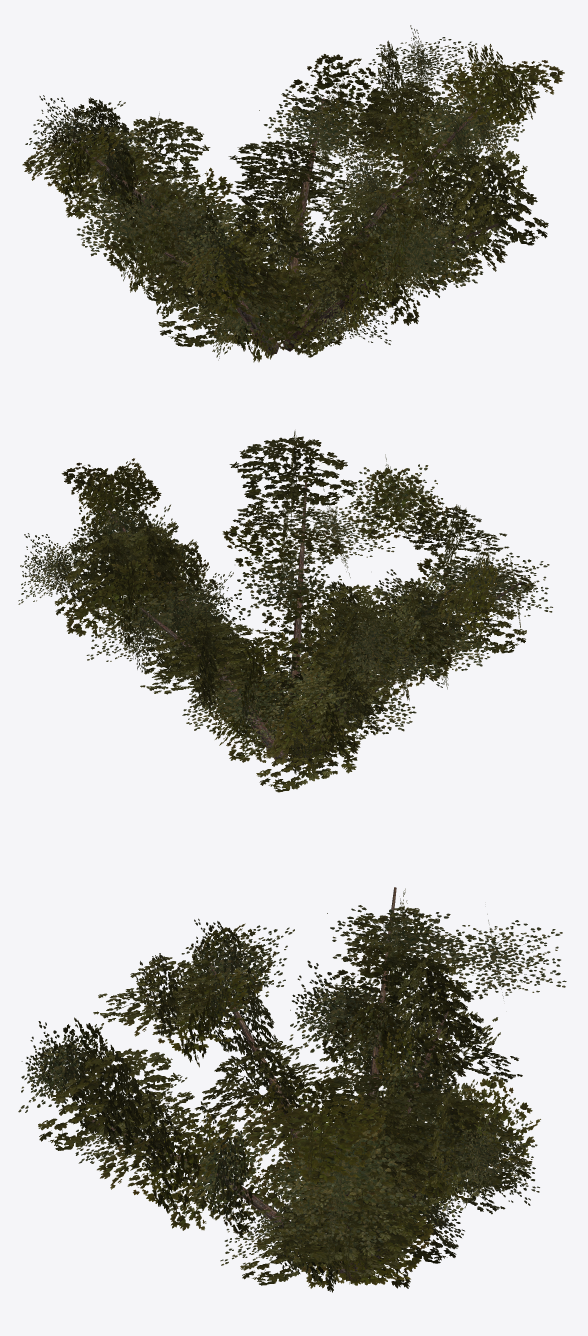
The model's file is bush_3d_02_lod1.glb.
The picture shows the model from 3 angles, top to bottom: view 1: azimuth 30°, elevation 25°; view 2: azimuth 150°, elevation 25°; view 3: azimuth 270°, elevation 25°; orthographic projection. The views are drawn at different scales.
Parts seen in each view (by area): view 1: foliage_cards, wood_geometry; view 2: foliage_cards, wood_geometry; view 3: foliage_cards, wood_geometry.
Boxes of the visible parts, x1,y1,x2,y2 form: foliage_cards: [22, 25, 564, 362]; wood_geometry: [72, 96, 498, 354]; foliage_cards: [18, 431, 552, 792]; wood_geometry: [107, 482, 522, 766]; foliage_cards: [18, 888, 566, 1292]; wood_geometry: [85, 887, 490, 1281].
Bounding box in the file's own units: 3.06 × 1.47 × 2.46.
2 materials, 2 textured.
